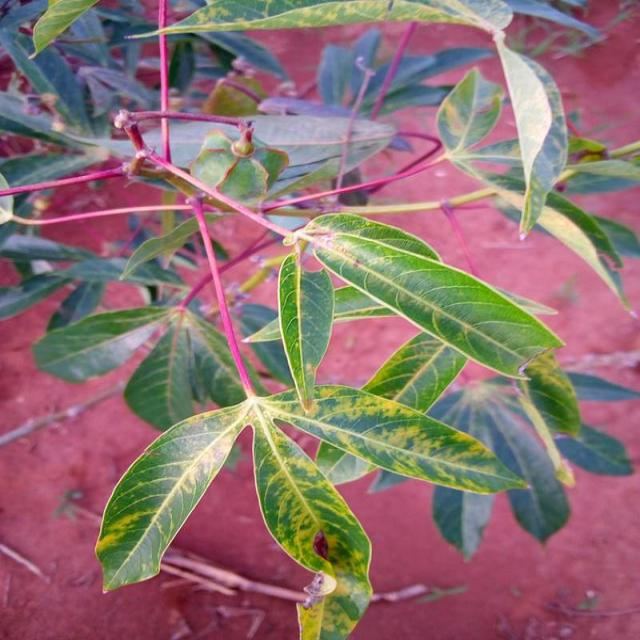cassava leaf: (300, 210, 566, 381), (93, 398, 250, 593), (250, 411, 373, 638), (277, 250, 334, 410)
